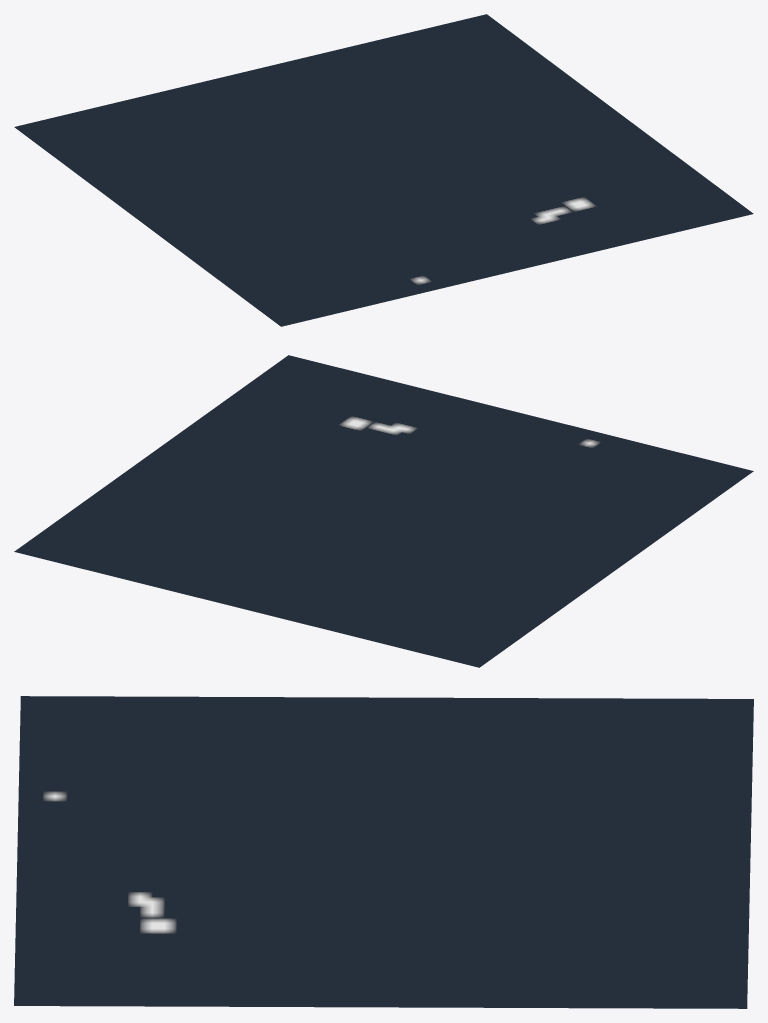
The model's file is jz_zkjd_y.fbx.
3 views of the same model, one above another, from view 1: azimuth 30°, elevation 25°; view 2: azimuth 150°, elevation 25°; view 3: azimuth 270°, elevation 25° (orthographic). The views are drawn at different scales.
Visible parts, largest first — view 1: jz_jkjd_y; view 2: jz_jkjd_y; view 3: jz_jkjd_y.
Boxes of the visible parts, x1,y1,x2,y2 form: jz_jkjd_y: (14,14,753,326); jz_jkjd_y: (14,355,753,667); jz_jkjd_y: (14,696,753,1008).
Bounding box in the file's own units: 271 × 5.96e-14 × 271.
